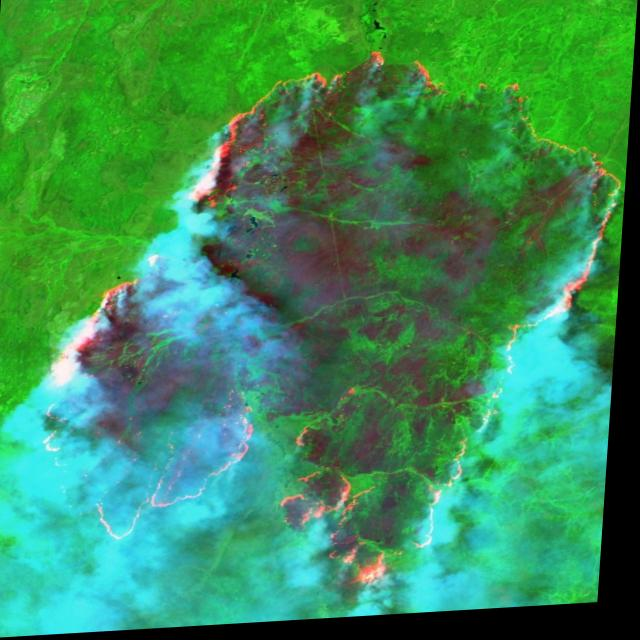fire: (16, 34, 637, 612)
